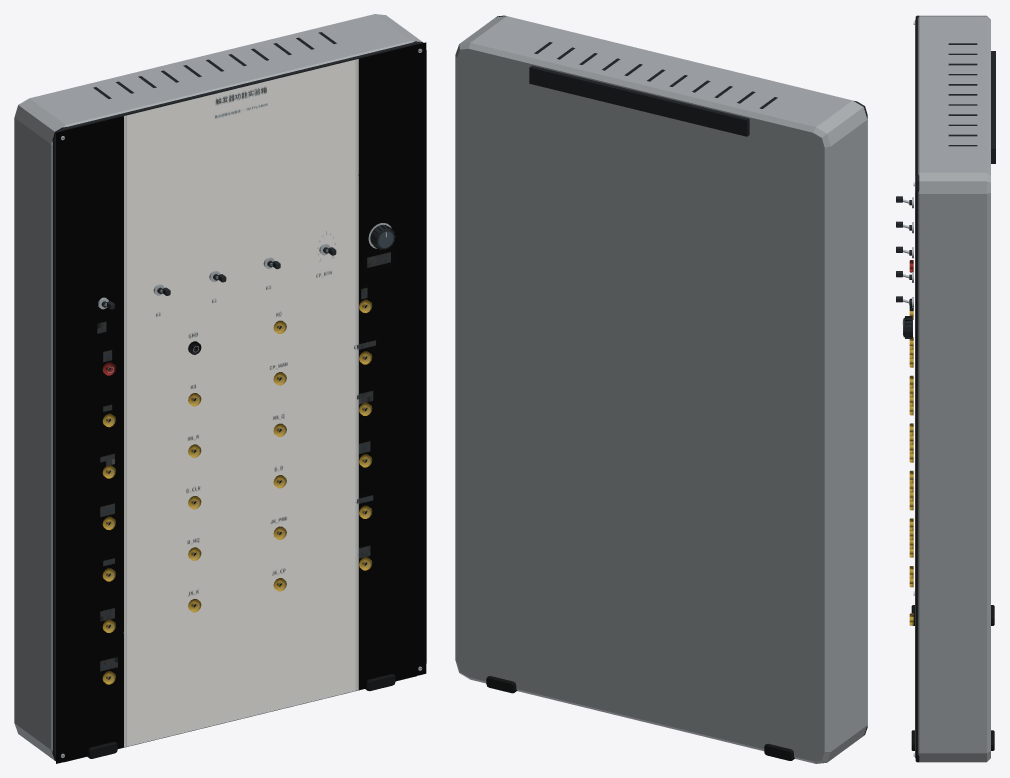
File: module.glb
3 views of the same model, side by side, from view 1: azimuth 30°, elevation 25°; view 2: azimuth 150°, elevation 25°; view 3: azimuth 270°, elevation 25° (orthographic). The views are drawn at different scales.
Parts seen in each view (by area): view 1: PANEL_silkscreen, STATIC_paint, STATIC_metal; view 2: STATIC_paint; view 3: STATIC_paint, MOVING_CLK_RATE_paint.
Part boxes in pixels (x1,y1,x2,y2): PANEL_silkscreen: (56,42,426,763); STATIC_paint: (14,14,426,762); STATIC_metal: (60,48,422,757); STATIC_paint: (455,15,867,763); STATIC_paint: (909,15,995,762); MOVING_CLK_RATE_paint: (902,316,912,338).
Size of the model in its own units: 0.29 by 0.4701 by 0.0723.
Materials: 9 (1 with a texture image).
